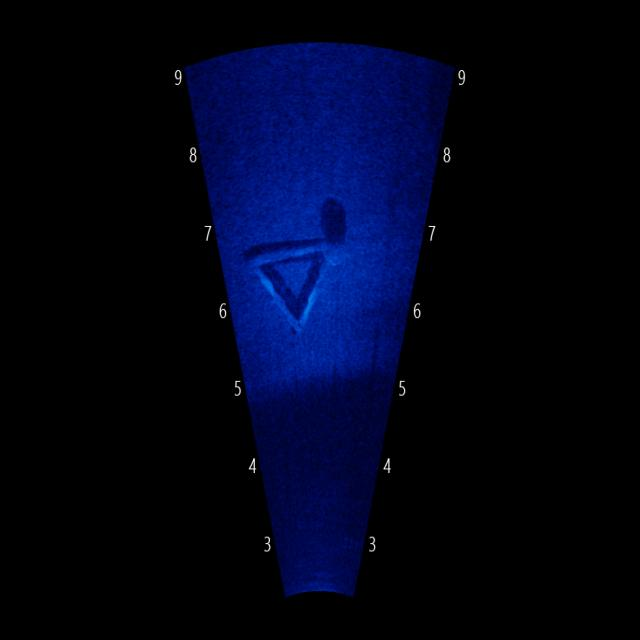triangle: (242, 230, 348, 345)
